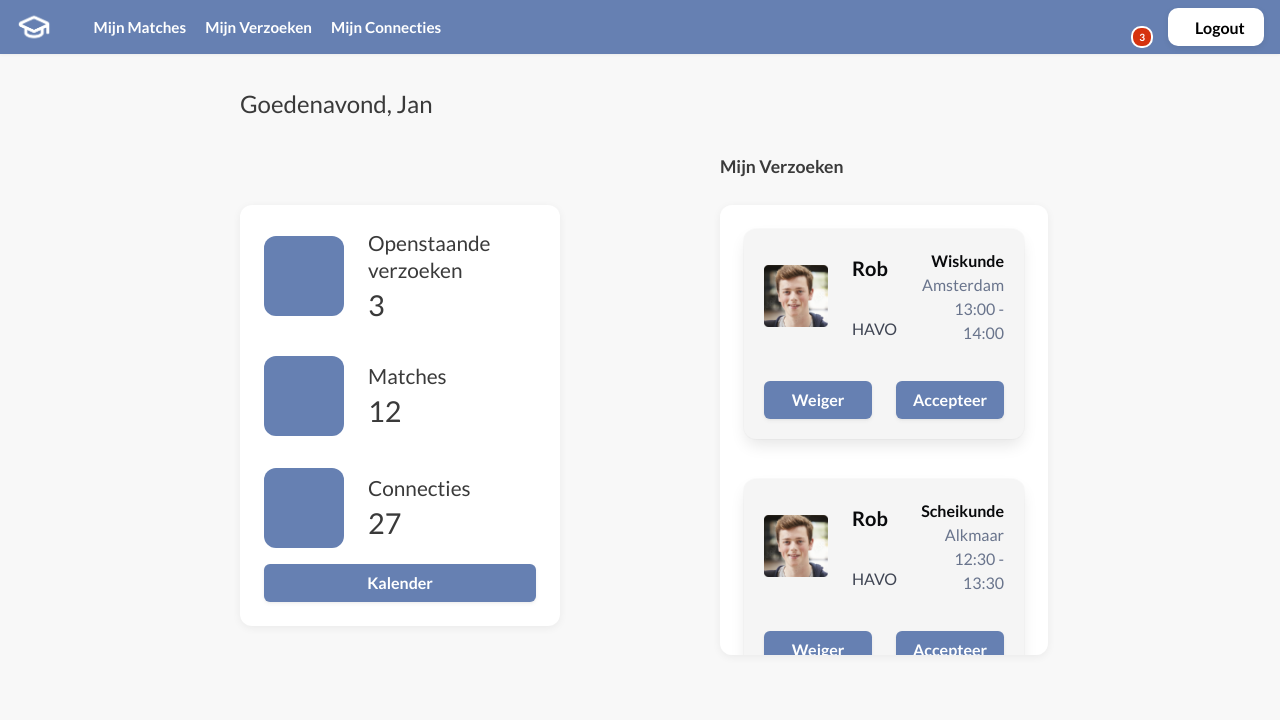
it: TeacherMainPage › opens logout modal when logout button is clicked
The width and height of the screenshot is (1280, 720).
Step 1. Click the button "Logout" → click(1216, 27), box 1168,8 -> 1264,46
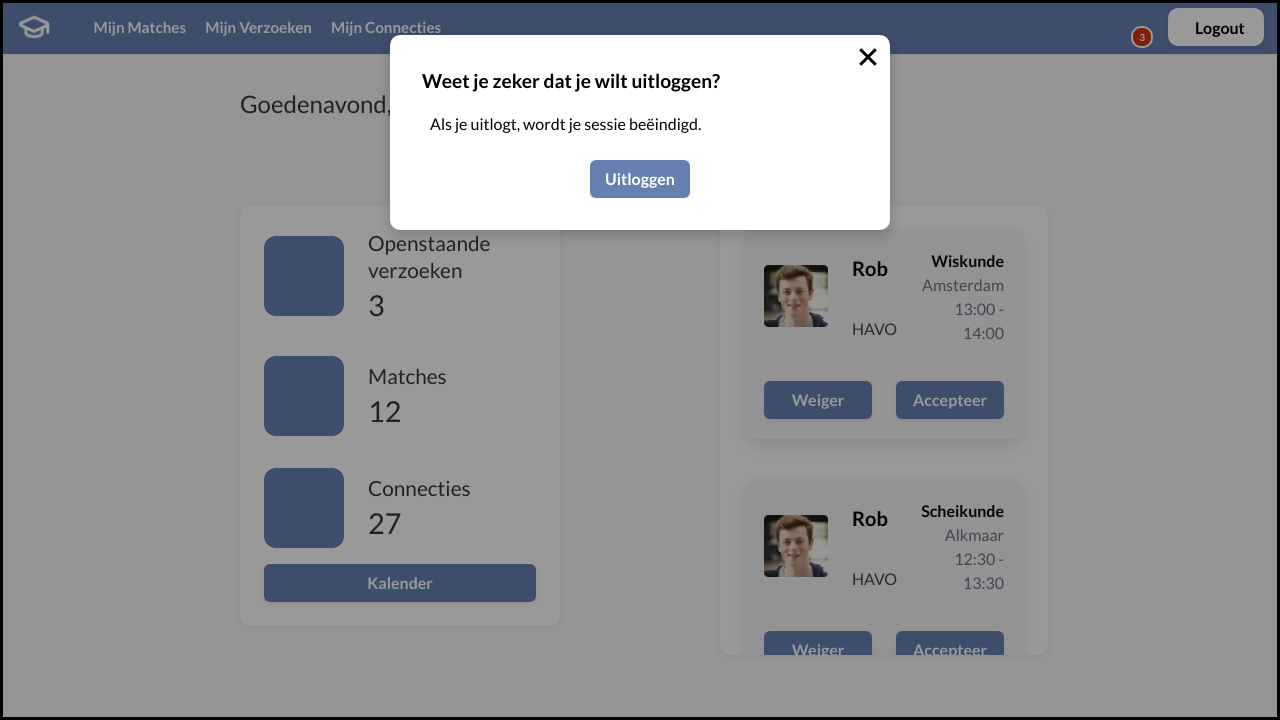
Check: the heading "Weet je zeker dat je wilt uitloggen?" is shown, box 422,69 -> 720,92
